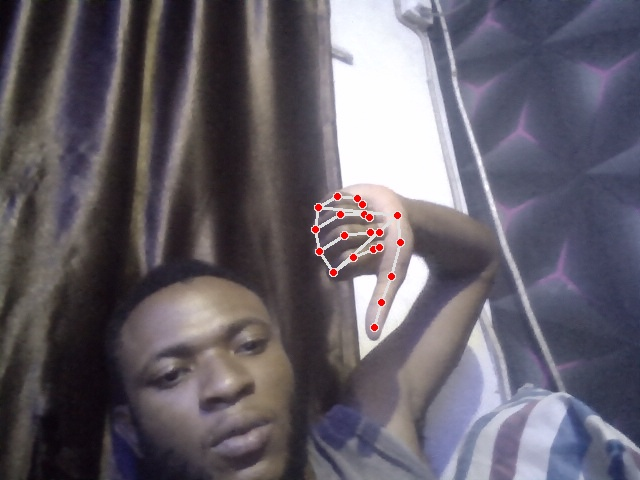thumbsdown: (310, 182, 411, 341)
